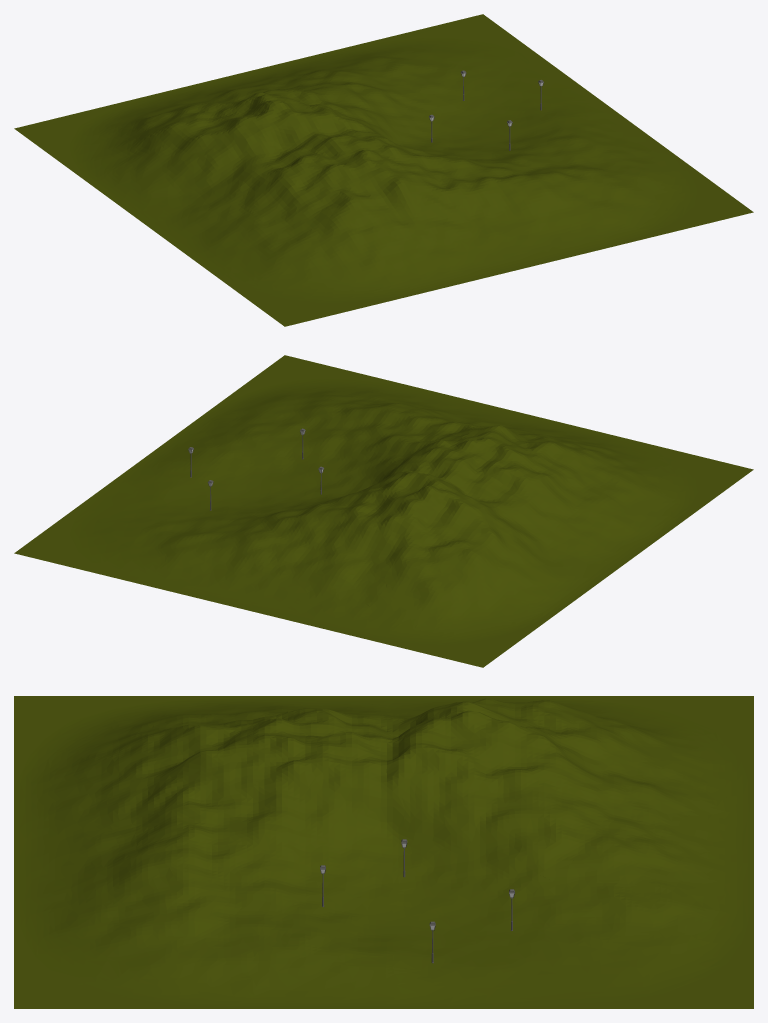
Rendered from Park02.fbx.
3 views of the same model, one above another, from view 1: azimuth 30°, elevation 25°; view 2: azimuth 150°, elevation 25°; view 3: azimuth 270°, elevation 25° (orthographic). The views are drawn at different scales.
Parts seen in each view (by area): view 1: Terrain.002; view 2: Terrain.002; view 3: Terrain.002.
Boxes of the visible parts, <box> form: Terrain.002: <box>14,14,753,326</box>; Terrain.002: <box>14,355,753,667</box>; Terrain.002: <box>14,696,753,1008</box>.
Size of the model in its own units: 10500 by 1400 by 10500.
